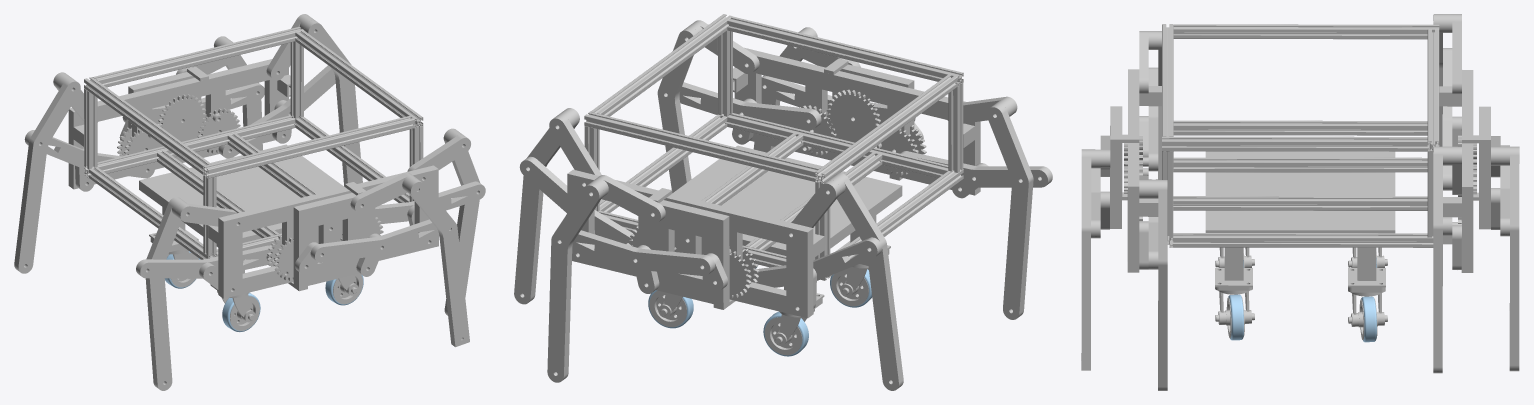
File: hexapod-v2.2.glb
3 renders of one model, left to right at view 1: azimuth 30°, elevation 25°; view 2: azimuth 150°, elevation 25°; view 3: azimuth 270°, elevation 25°, orthographic. The views are drawn at different scales.
Visible parts, largest first — view 1: Body1.014, Body1.083, Body1.013, Body1.047, Body1.053, Body1.062, Body1.046, Body1.011, Body1.009, Body1.059, Body1.003, Body1.010 (+32 smaller); view 2: Body1.013, Body1.083, Body1.014, Body1.046, Body1.064, Body1.054, Body1.047, Body1.009, Body1.011, Body1.044, Body1.070, Body1.002 (+36 smaller); view 3: Body1.083, Body1.008, Body1.072, Body1.010, Body1.001, Body1, Body1.073, Body1.014, Body1.013, Body1.054, Body1.062, Body1.044 (+31 smaller).
Boxes of the visible parts, x1,y1,x2,y2 form: Body1.014: [218, 165, 438, 298]; Body1.083: [139, 144, 344, 273]; Body1.013: [68, 59, 288, 189]; Body1.047: [14, 78, 80, 273]; Body1.053: [293, 192, 366, 287]; Body1.062: [406, 179, 469, 347]; Body1.046: [145, 197, 182, 390]; Body1.011: [203, 116, 414, 178]; Body1.009: [93, 26, 303, 87]; Body1.059: [310, 219, 439, 262]; Body1.003: [84, 115, 295, 177]; Body1.010: [84, 77, 211, 174]; Body1.013: [567, 169, 813, 318]; Body1.083: [672, 145, 902, 290]; Body1.014: [734, 47, 980, 195]; Body1.046: [986, 103, 1033, 319]; Body1.064: [647, 200, 729, 306]; Body1.054: [547, 182, 603, 382]; Body1.047: [833, 173, 903, 390]; Body1.009: [584, 112, 820, 181]; Body1.011: [727, 16, 963, 86]; Body1.044: [514, 108, 579, 304]; Body1.070: [572, 230, 715, 275]; Body1.002: [720, 113, 948, 178]; Body1.083: [1205, 151, 1395, 280]; Body1.008: [1162, 136, 1427, 151]; Body1.072: [1173, 157, 1427, 172]; Body1.010: [1173, 24, 1439, 39]; Body1.001: [1173, 120, 1427, 135]; Body1: [1173, 233, 1433, 247]; Body1.073: [1173, 196, 1427, 210]; Body1.014: [1127, 69, 1139, 272]; Body1.013: [1461, 70, 1473, 272]; Body1.054: [1509, 146, 1519, 371]; Body1.062: [1081, 149, 1091, 370]; Body1.044: [1433, 146, 1442, 373].
Bounding box in the file's own units: 1.19 × 0.6884 × 1.15.
